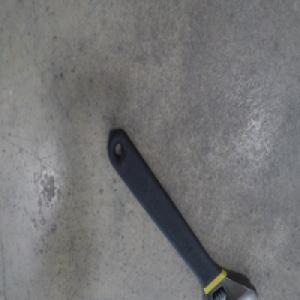AdjustableWrench: (106, 129, 260, 300)
